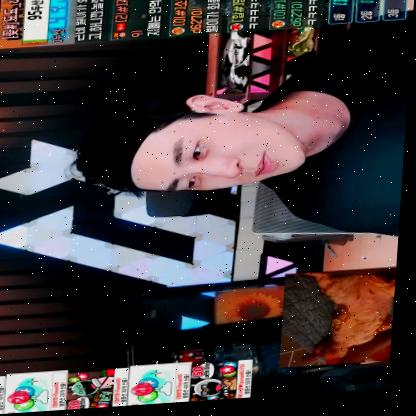donation: (8, 371, 72, 414), (194, 362, 258, 405), (69, 369, 134, 411), (132, 366, 196, 408), (0, 375, 10, 416)
streamer: (59, 16, 414, 265)
